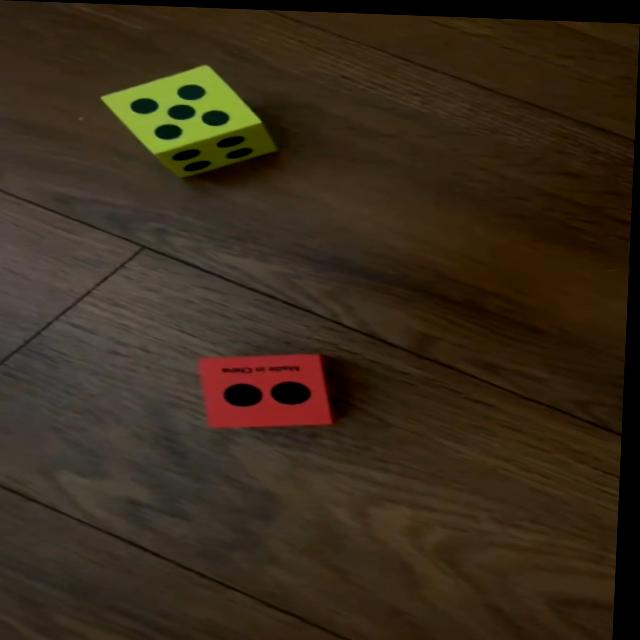cube: (195, 348, 344, 430)
